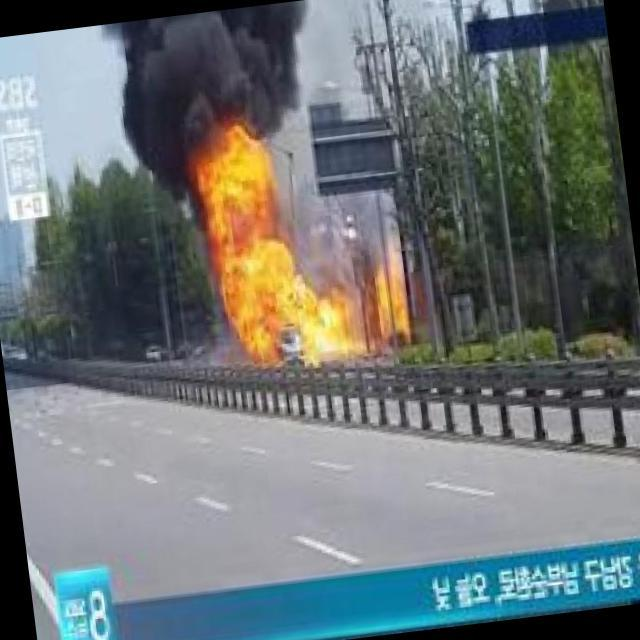Fire: (206, 170, 293, 327), (293, 294, 361, 357), (377, 273, 412, 336), (236, 325, 288, 365)
